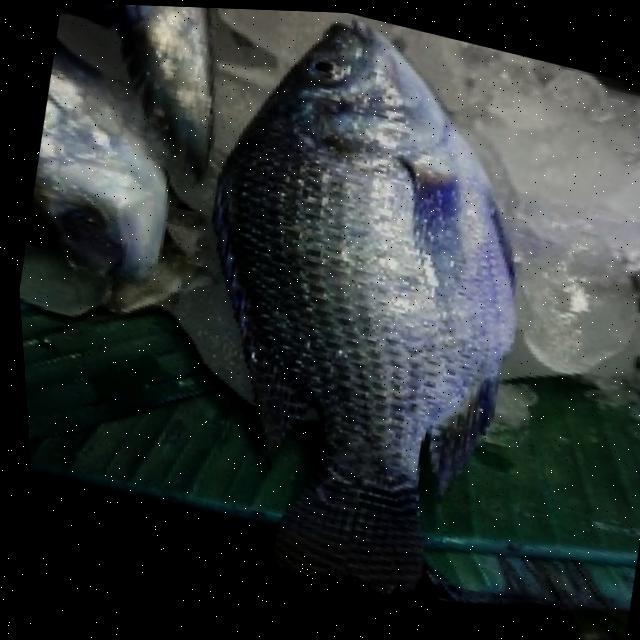Fresh: (145, 4, 588, 498)
